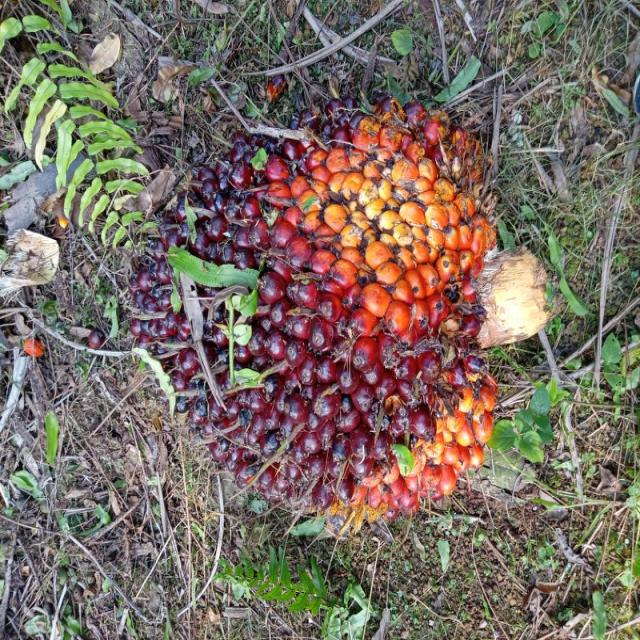fraksi 3: (69, 77, 562, 589)
